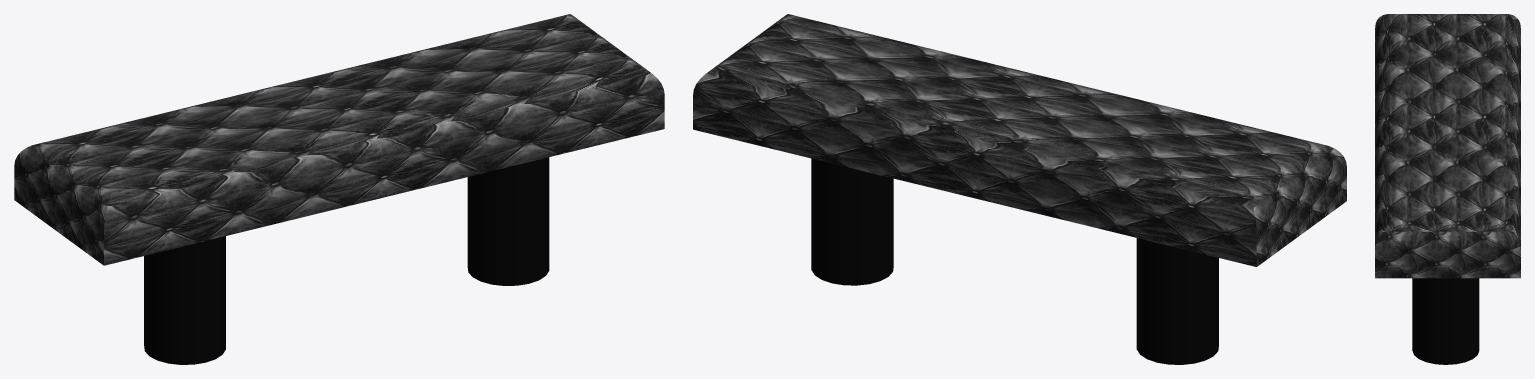
File: Seat.fbx
3 renders of one model, left to right at view 1: azimuth 30°, elevation 25°; view 2: azimuth 150°, elevation 25°; view 3: azimuth 270°, elevation 25°, orthographic. The views are drawn at different scales.
Visible parts, largest first — view 1: pCube48, pCylinder3, pCylinder4; view 2: pCube48, pCylinder4, pCylinder3; view 3: pCube48, pCylinder3.
Boxes of the visible parts, x1=… form: pCube48: x1=14, y1=14, x2=664, y2=265; pCylinder3: x1=467, y1=157, x2=549, y2=285; pCylinder4: x1=144, y1=236, x2=225, y2=364; pCube48: x1=693, y1=14, x2=1346, y2=266; pCylinder4: x1=1136, y1=238, x2=1218, y2=364; pCylinder3: x1=811, y1=158, x2=893, y2=285; pCube48: x1=1375, y1=14, x2=1520, y2=278; pCylinder3: x1=1412, y1=278, x2=1479, y2=364.
Size of the model in its own units: 1.9 by 0.6677 by 0.5273.
Materials: 2 (1 with a texture image).
